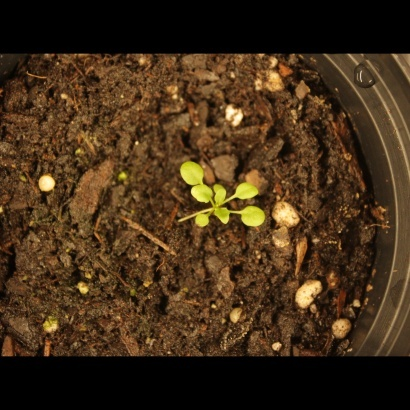leaf: (238, 205, 272, 230), (178, 156, 207, 185), (233, 177, 266, 202), (189, 182, 214, 207), (189, 212, 212, 235), (212, 207, 235, 230), (212, 184, 235, 207)
